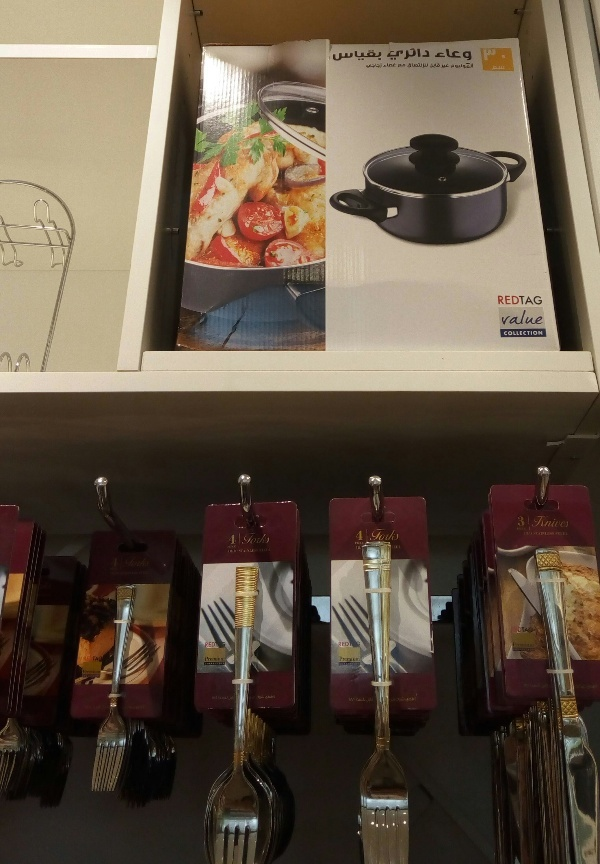text: (113, 558, 128, 577), (129, 558, 144, 577), (513, 310, 528, 325), (529, 310, 544, 325), (401, 48, 416, 61), (449, 48, 464, 61), (385, 528, 400, 541), (417, 48, 431, 61), (337, 50, 352, 62), (353, 50, 368, 62), (545, 516, 560, 528), (387, 48, 400, 61), (435, 48, 448, 61), (371, 528, 384, 541), (242, 533, 256, 545), (369, 50, 382, 62), (484, 48, 496, 61), (531, 516, 544, 528), (339, 655, 352, 667), (257, 533, 270, 545), (502, 310, 512, 325), (209, 656, 224, 666), (241, 545, 256, 555), (257, 545, 272, 555), (513, 296, 528, 305), (513, 625, 528, 634), (337, 640, 352, 649), (356, 530, 368, 541), (497, 48, 507, 61), (227, 545, 240, 555), (498, 296, 512, 305), (529, 296, 543, 305), (229, 534, 240, 545), (83, 669, 96, 678), (145, 558, 151, 577), (210, 694, 224, 702), (209, 641, 224, 648), (353, 696, 368, 703), (401, 696, 416, 703), (451, 62, 464, 70), (465, 48, 473, 61), (518, 517, 528, 527), (561, 516, 569, 528), (353, 655, 361, 667), (83, 655, 96, 662), (257, 694, 272, 700), (388, 696, 400, 703), (513, 331, 528, 336), (529, 331, 544, 336), (529, 531, 544, 536), (545, 531, 560, 536), (465, 62, 474, 70), (353, 640, 361, 649), (225, 694, 234, 702), (369, 64, 382, 69), (529, 625, 536, 634), (417, 63, 428, 68), (97, 655, 104, 662), (385, 63, 397, 67), (561, 531, 570, 536), (433, 63, 440, 69), (249, 694, 256, 700), (369, 696, 375, 703), (408, 63, 416, 68), (497, 66, 505, 71), (504, 331, 512, 336), (110, 558, 112, 577), (333, 50, 336, 62), (97, 669, 101, 678), (347, 696, 352, 703), (442, 64, 448, 69), (205, 656, 208, 666), (92, 655, 96, 662), (401, 64, 406, 69), (523, 531, 528, 536), (273, 694, 277, 700), (205, 641, 208, 648), (417, 696, 420, 703), (510, 625, 512, 634), (493, 66, 496, 71), (430, 63, 432, 69), (398, 64, 400, 69), (225, 656, 226, 666), (225, 641, 226, 648), (367, 64, 368, 69)
